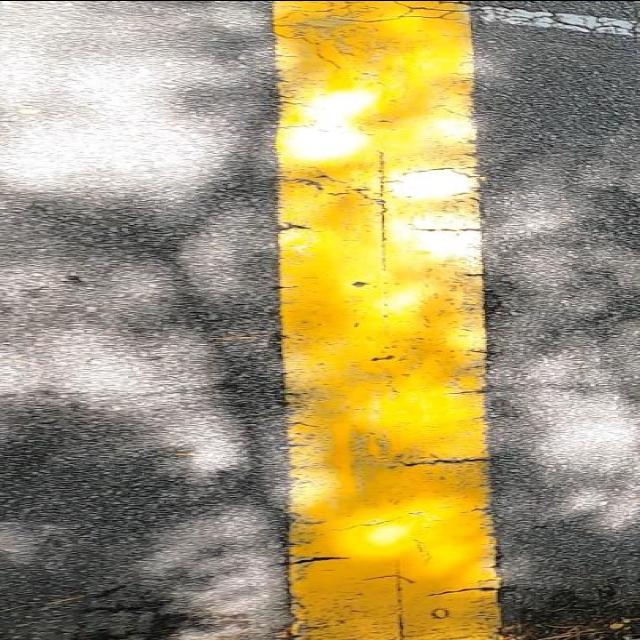cracks: (257, 0, 525, 640)
